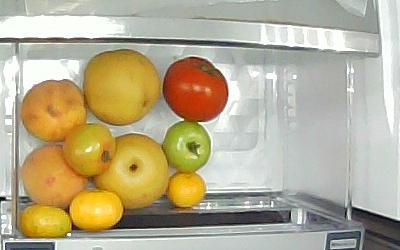peach: (20, 144, 88, 209), (21, 80, 86, 142)
pear: (91, 133, 168, 209), (84, 50, 162, 125)
tangerine: (69, 190, 123, 231), (20, 204, 72, 239), (169, 173, 207, 208)
tomato: (162, 56, 228, 121), (63, 123, 118, 178), (162, 122, 212, 172)
